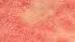plaque psoriasis: (0, 0, 75, 42), (0, 0, 39, 42)
